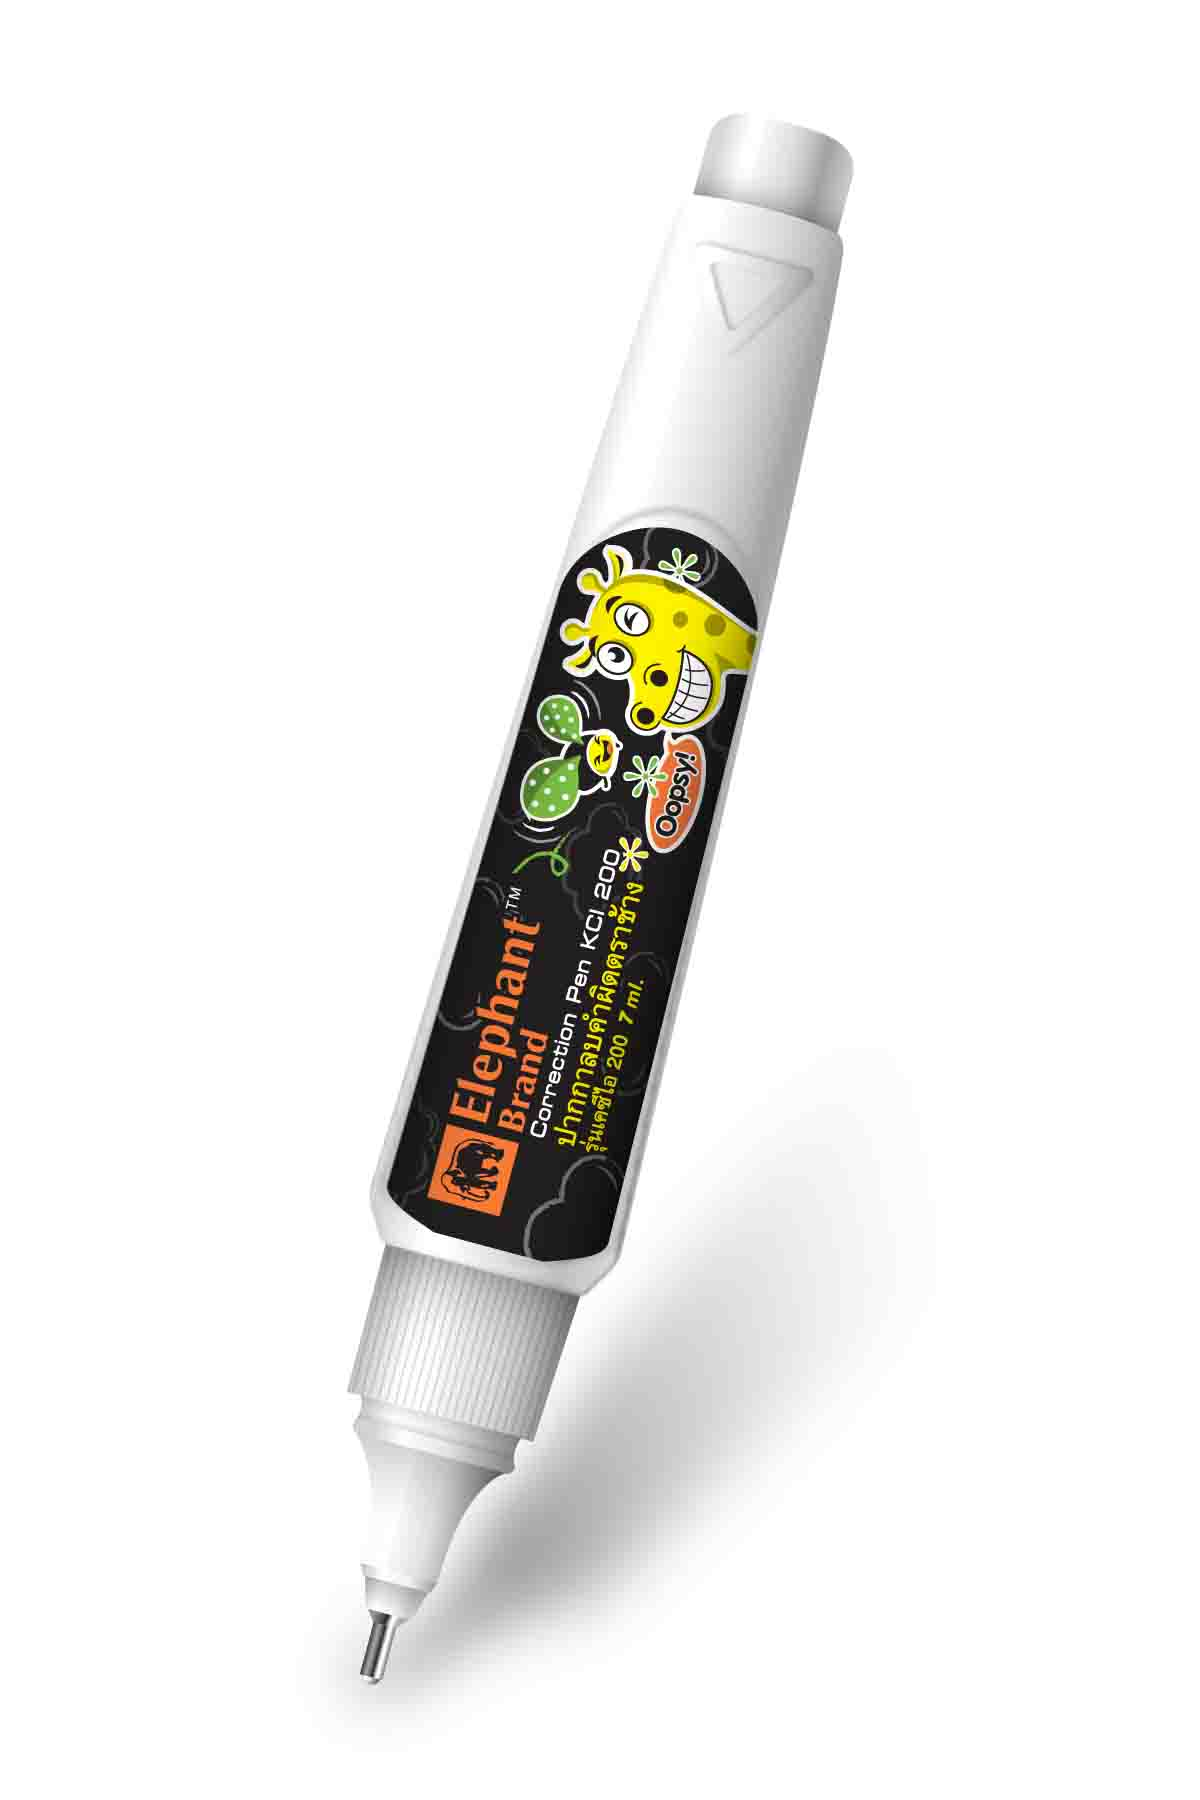Correction_fluid: (299, 92, 864, 1704)
